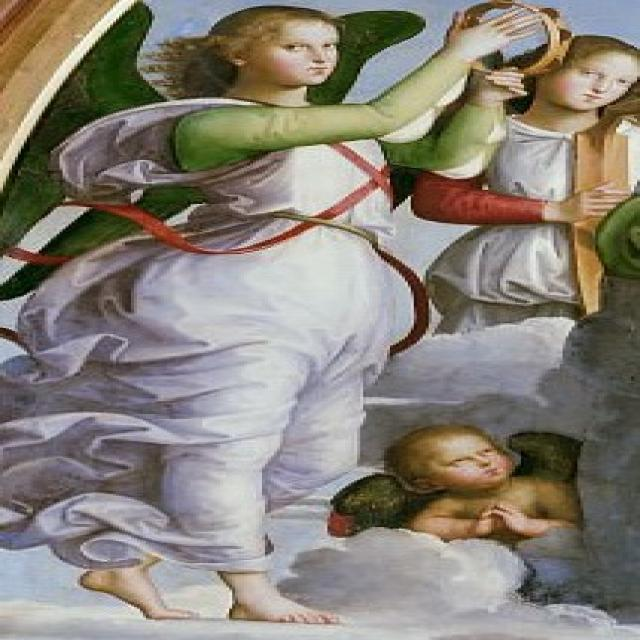angel: (8, 9, 576, 627)
